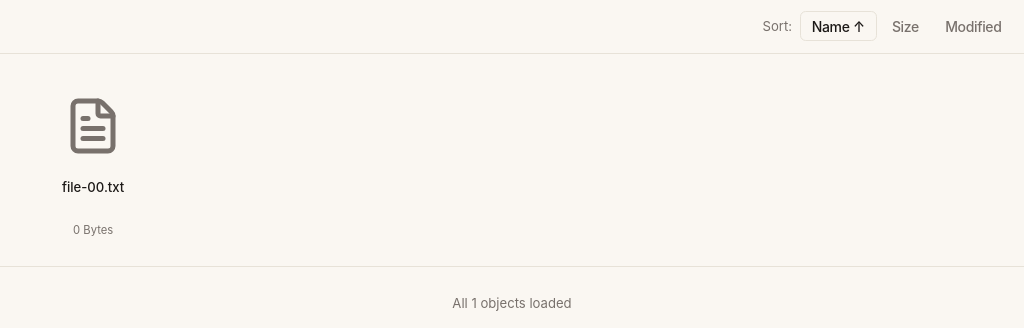
Test case: ObjectsContent view switching › withholds mutation and selection controls from read-only users
The width and height of the screenshot is (1024, 328).
Right-click the list item "file-00.txt": coordinates (93, 160) [15,68,171,250]
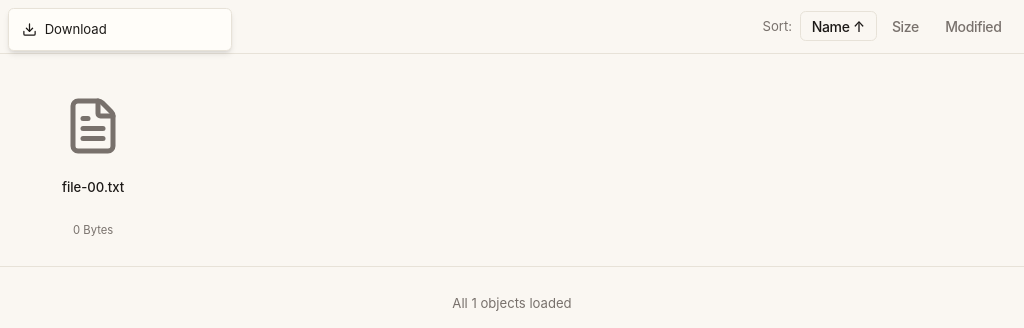
Check: the menu item "Download" is shown, box [13,13,227,47]
